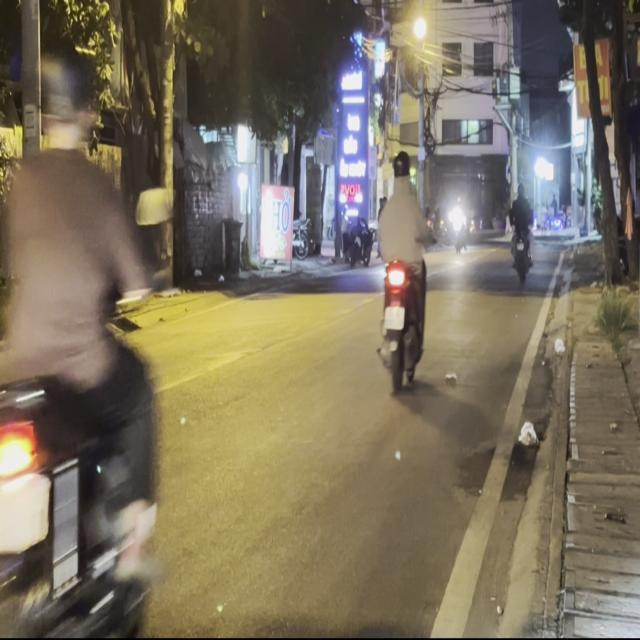helmet: (35, 36, 100, 154), (390, 149, 410, 187)
licenseplate: (0, 26, 170, 632), (374, 147, 430, 390)
nohelmet: (0, 474, 49, 551), (384, 305, 404, 328)
